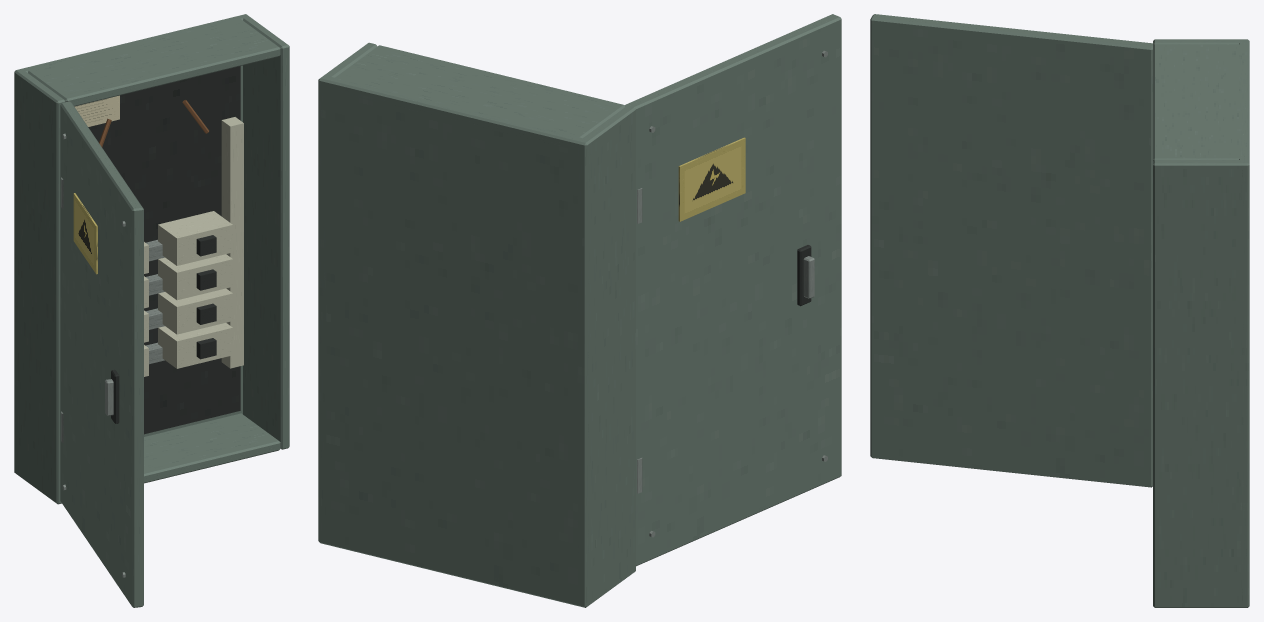
The model's file is breaker_panel_open.glb.
3 renders of one model, left to right at view 1: azimuth 30°, elevation 25°; view 2: azimuth 150°, elevation 25°; view 3: azimuth 270°, elevation 25°, orthographic. The views are drawn at different scales.
Visible parts, largest first — view 1: breaker_panel_open; view 2: breaker_panel_open; view 3: breaker_panel_open.
Boxes of the visible parts, x1=… form: breaker_panel_open: x1=14, y1=14, x2=289, y2=607; breaker_panel_open: x1=318, y1=14, x2=841, y2=607; breaker_panel_open: x1=870, y1=14, x2=1249, y2=607.
Size of the model in its own units: 0.5635 by 0.76 by 0.5877.
7 materials, 7 textured.
